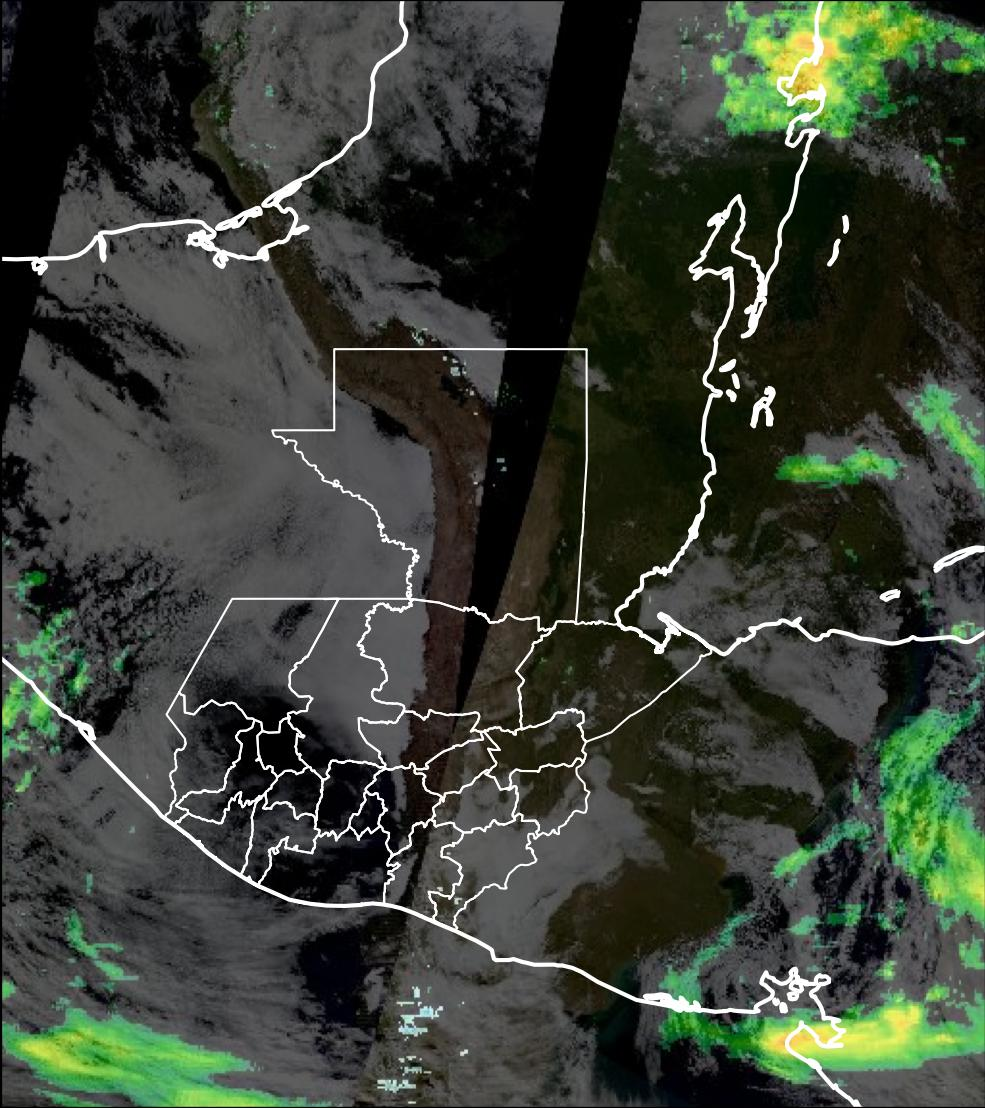precipitacion: (792, 28, 848, 70)
